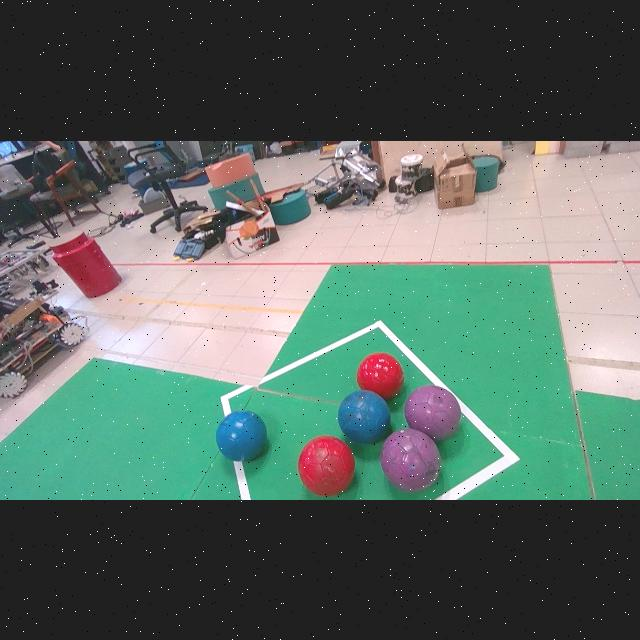B: (338, 389, 390, 443), (216, 409, 267, 461)
P: (381, 429, 440, 492), (404, 384, 461, 440)
R: (298, 435, 355, 496), (356, 351, 404, 399)
